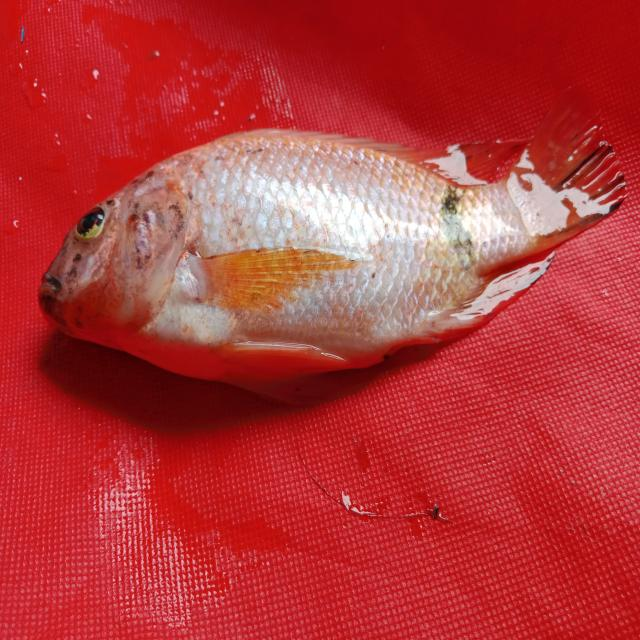ikan: (33, 97, 632, 392)
